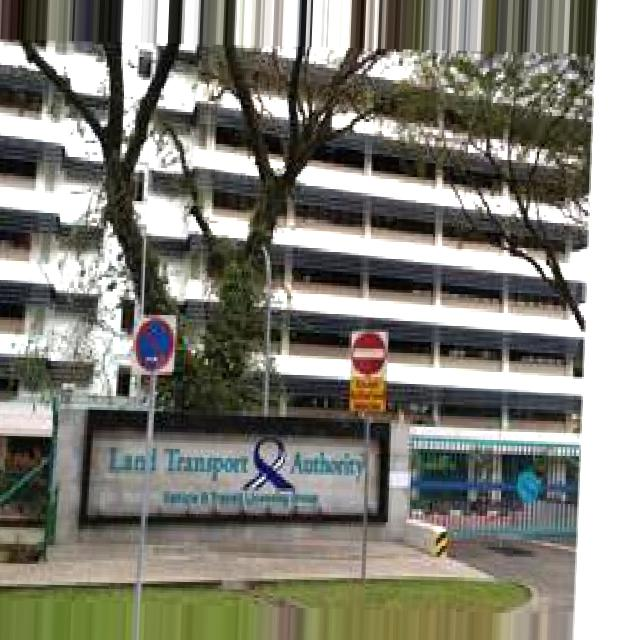forb_stopping: (135, 319, 173, 371)
